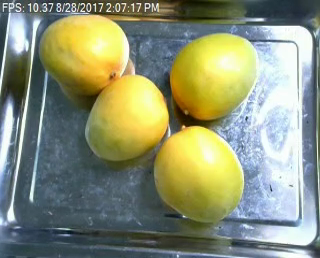Mango: (149, 118, 244, 223), (168, 29, 258, 121), (83, 71, 166, 164), (41, 13, 130, 91)
